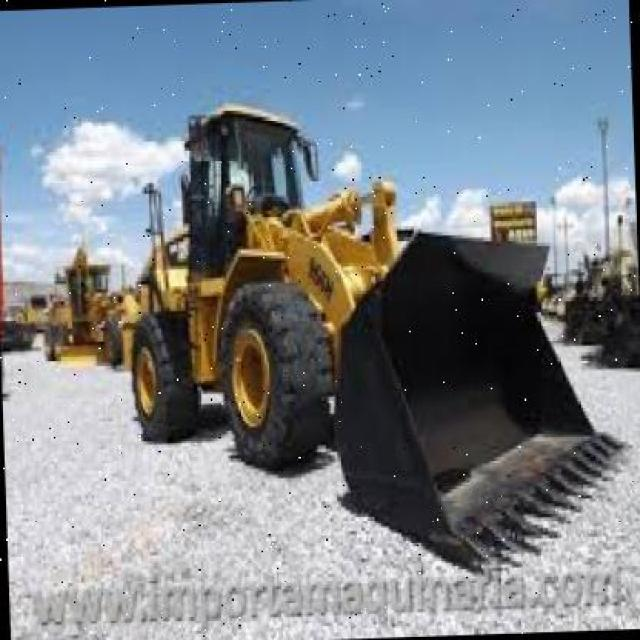buldozerpayloadergrader: (115, 75, 631, 576)
